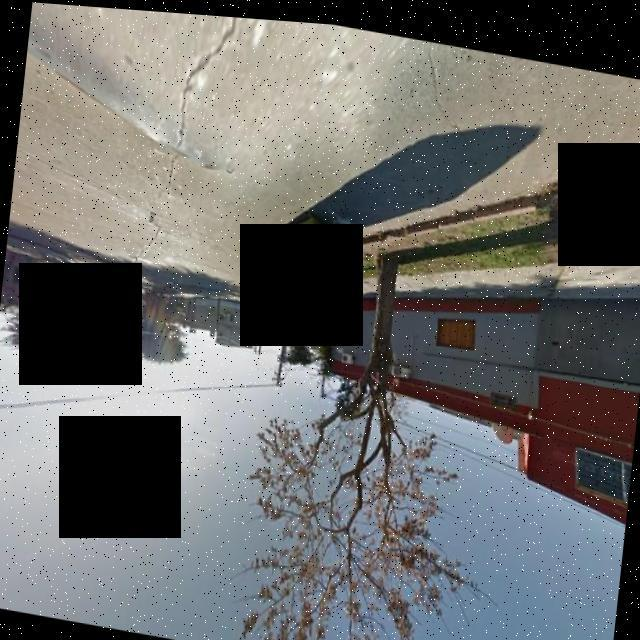bin: (261, 198, 360, 305)
